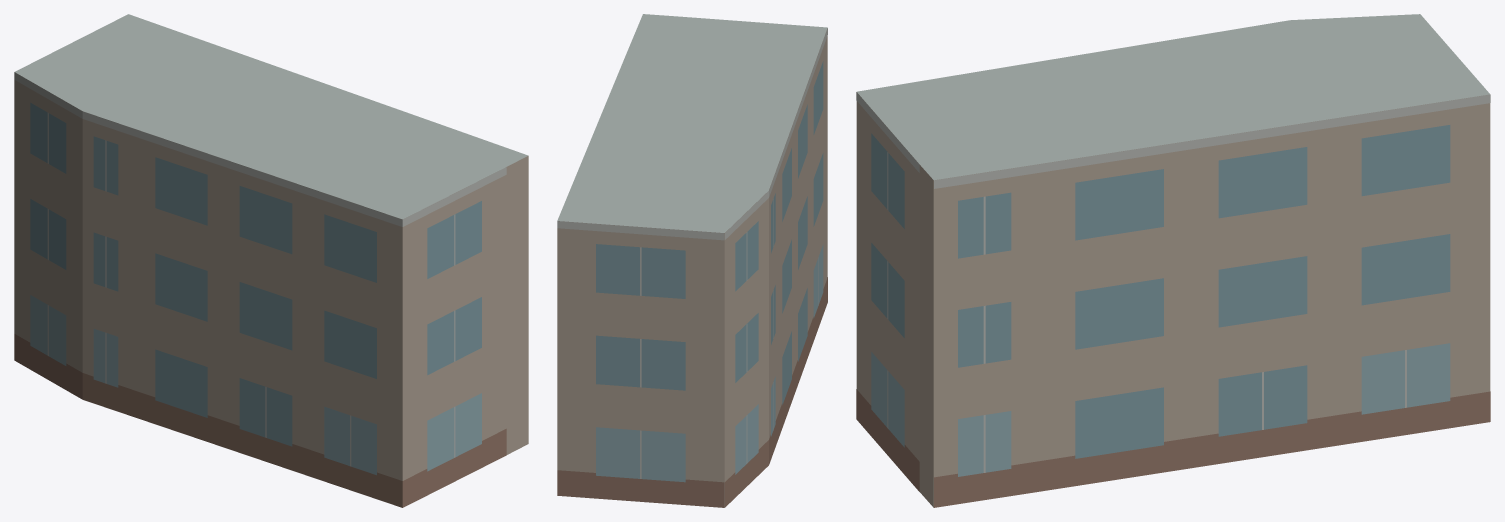
The model's file is survey-upis-32698470.glb.
The picture shows the model from 3 angles, left to right: view 1: azimuth 30°, elevation 25°; view 2: azimuth 150°, elevation 25°; view 3: azimuth 270°, elevation 25°; orthographic projection. The views are drawn at different scales.
Visible parts, largest first — view 1: survey-upis-32698470.tmp; view 2: survey-upis-32698470.tmp; view 3: survey-upis-32698470.tmp.
Part boxes in pixels (x1,y1,x2,y2): survey-upis-32698470.tmp: (14,14,528,507); survey-upis-32698470.tmp: (557,14,827,507); survey-upis-32698470.tmp: (856,14,1490,507).
Bounding box in the file's own units: 9.97 × 9.15 × 16.06.
